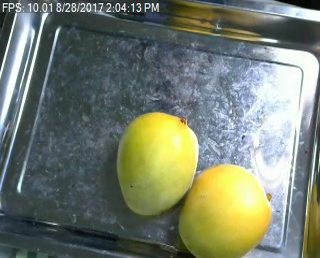Mango: (178, 158, 270, 256), (115, 108, 197, 214)
